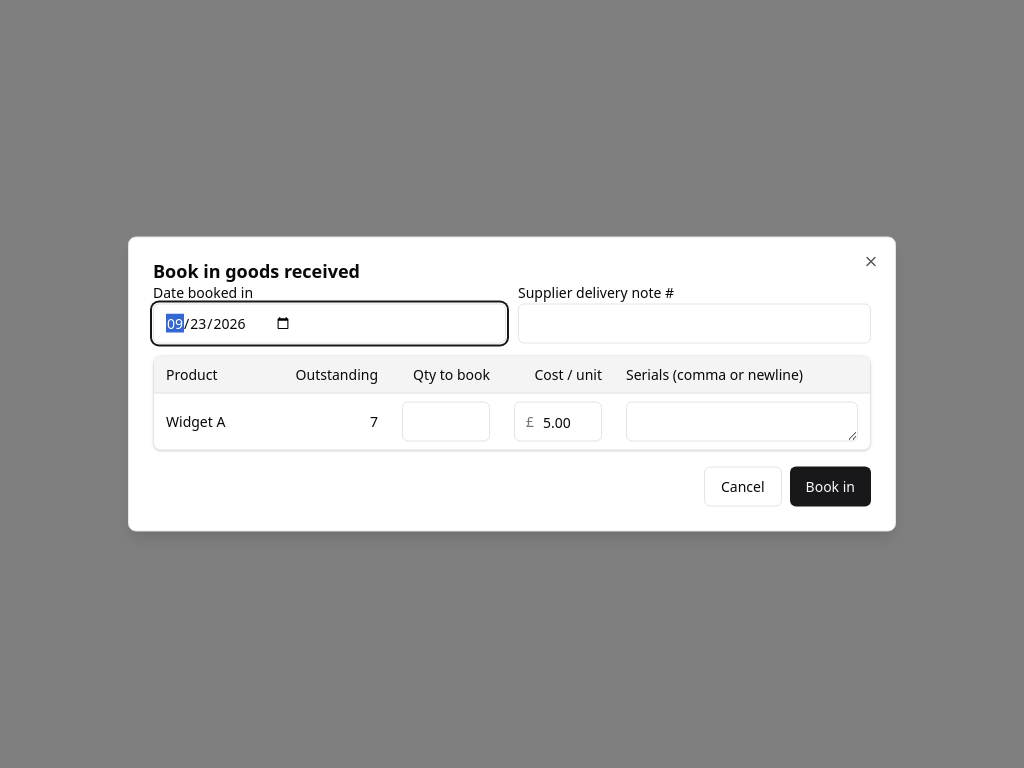
it: BookInDialog › blocks book-in when no quantities entered
Click the button "Book in" at (830, 486), box [790,466,871,506]
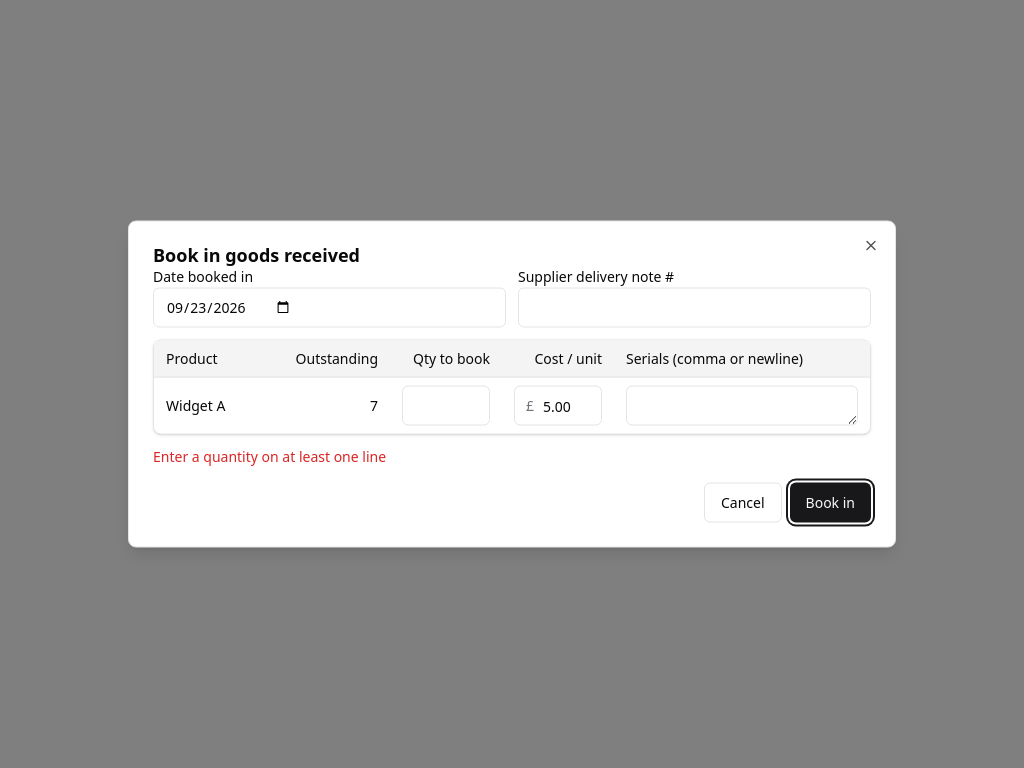
Check: the message shows "Enter a quantity", box [153,446,386,466]
